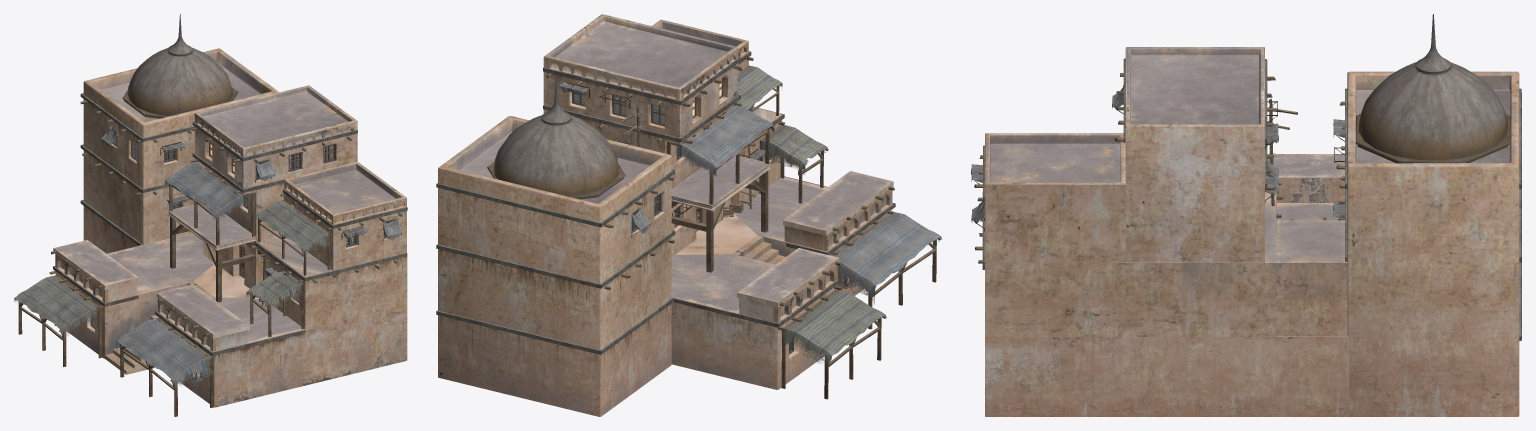
The model's file is xi_dep_market_building.gltf.
The picture shows the model from 3 angles, left to right: view 1: azimuth 30°, elevation 25°; view 2: azimuth 150°, elevation 25°; view 3: azimuth 270°, elevation 25°; orthographic projection. The views are drawn at different scales.
Visible parts, largest first — view 1: xi_dep_market_building; view 2: xi_dep_market_building; view 3: xi_dep_market_building.
Boxes of the visible parts, x1=… form: xi_dep_market_building: x1=14, y1=14, x2=407, y2=416; xi_dep_market_building: x1=436, y1=14, x2=942, y2=416; xi_dep_market_building: x1=971, y1=14, x2=1521, y2=416.
Bounding box in the file's own units: 15.68 × 13.86 × 19.49.
Materials: 4 (4 with a texture image).
